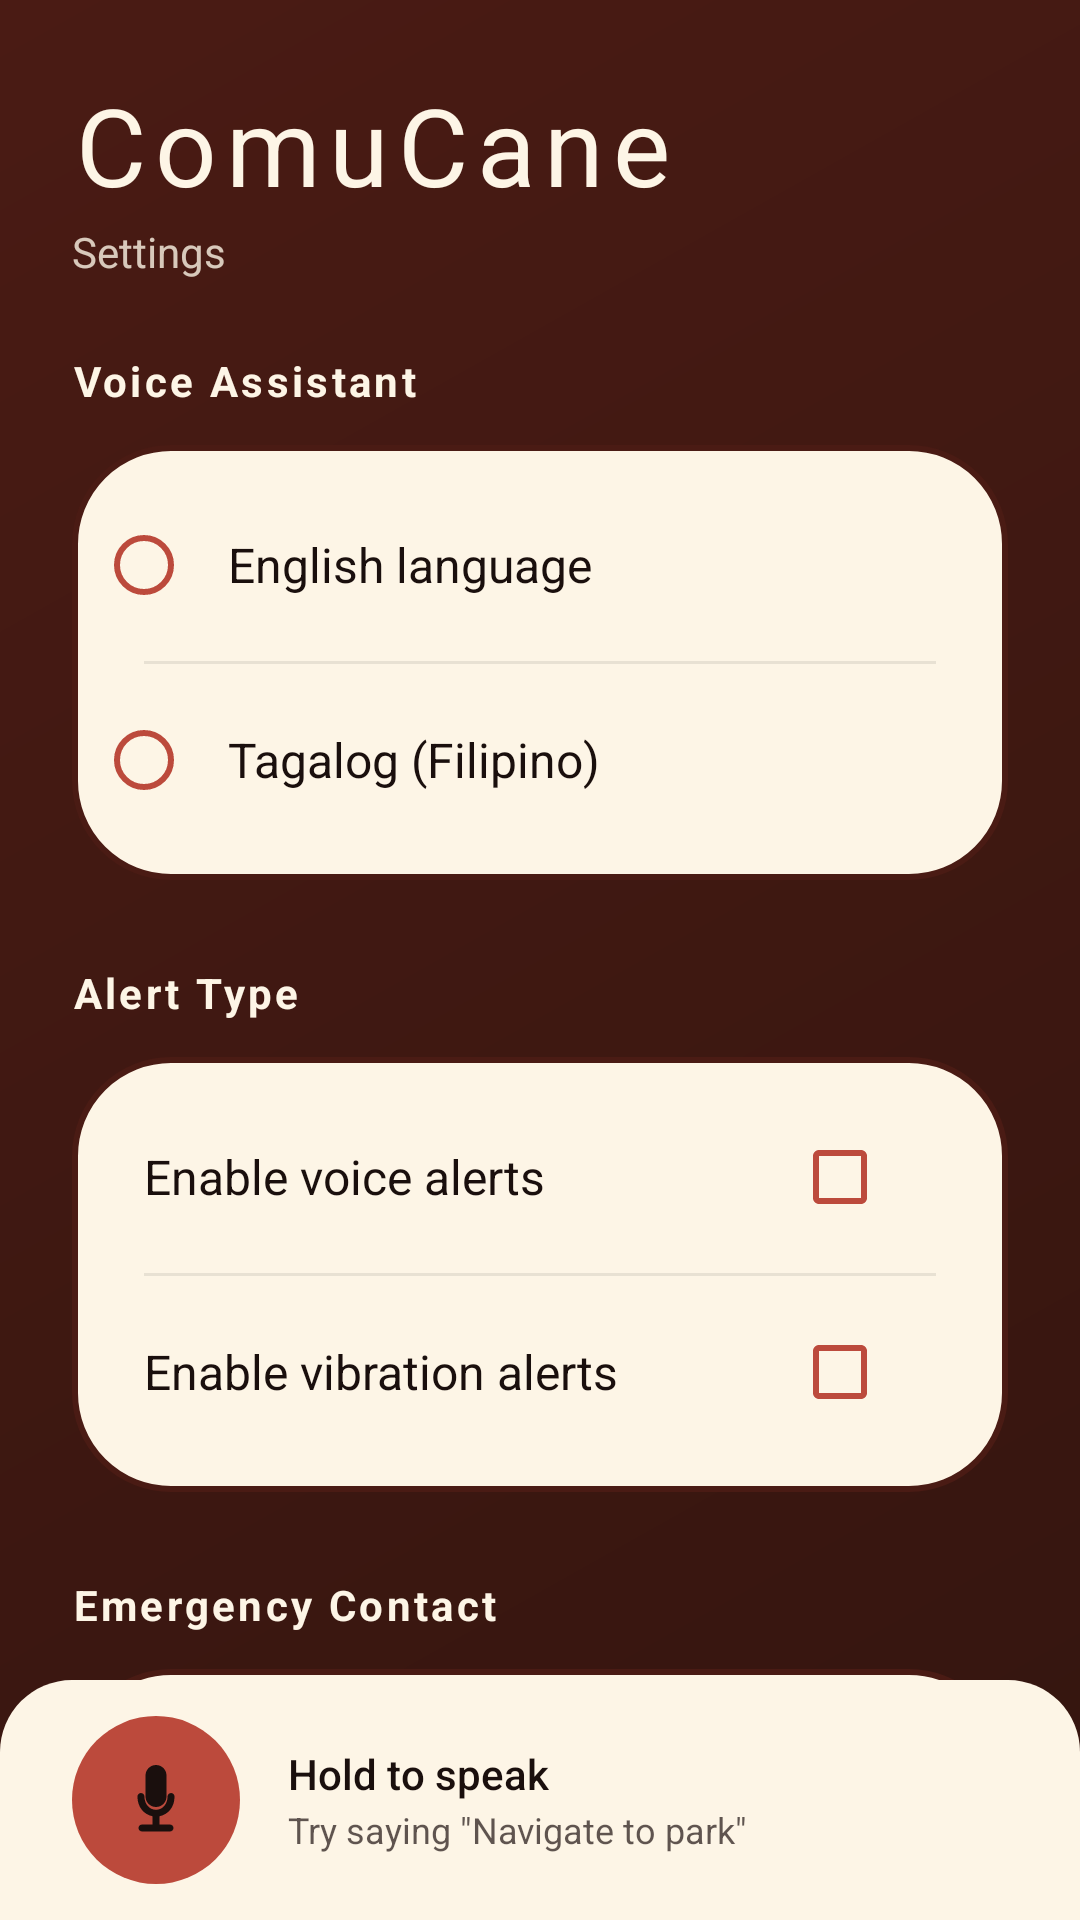

Where icons sit on this 1080 × 1920 app screen, as (x1, y1, x2, y2):
voice mic: (137, 1765, 175, 1832)
